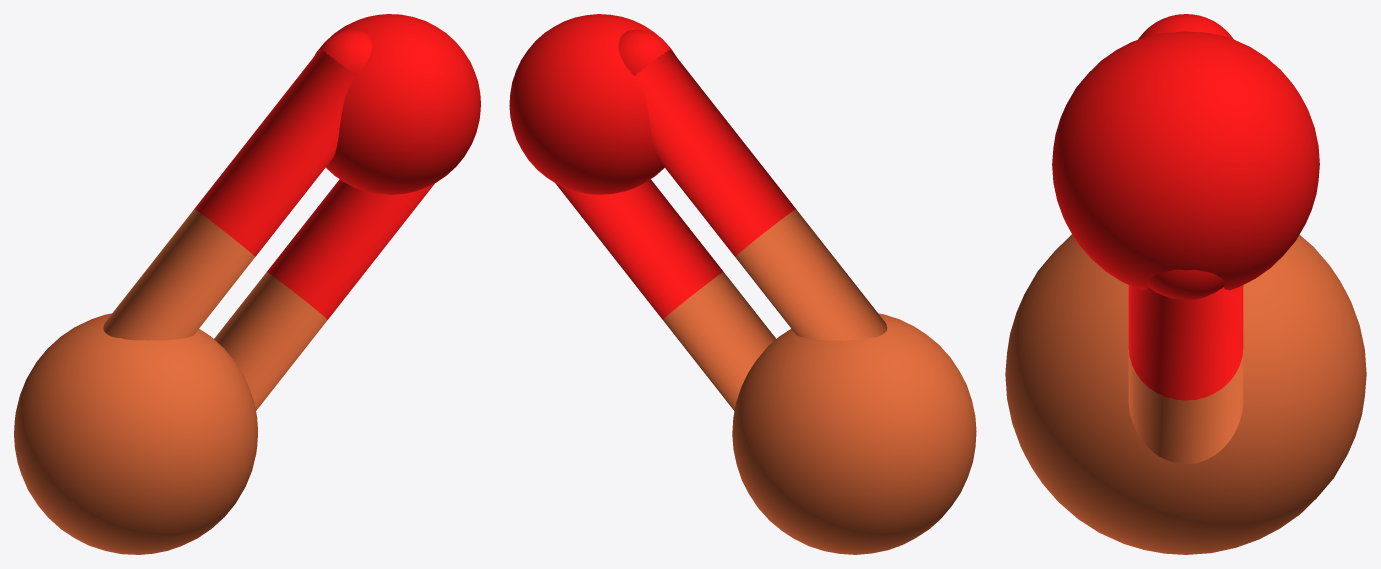
Rendered from oxideironII.obj.
3 renders of one model, left to right at view 1: azimuth 30°, elevation 25°; view 2: azimuth 150°, elevation 25°; view 3: azimuth 270°, elevation 25°, orthographic. The views are drawn at different scales.
Parts seen in each view (by area): view 1: Fe1_Atom, O2_Atom, Cylinder4, Cylinder3, Cylinder2, Cylinder1, Sphere4; view 2: Fe1_Atom, O2_Atom, Cylinder4, Cylinder3, Cylinder2, Cylinder1, Sphere4; view 3: Fe1_Atom, O2_Atom, Cylinder2, Cylinder1, Sphere2, Sphere4.
Boxes of the visible parts, <box> form: Fe1_Atom: <box>14,313,257,554</box>; O2_Atom: <box>314,14,480,194</box>; Cylinder4: <box>194,49,355,256</box>; Cylinder3: <box>103,209,254,340</box>; Cylinder2: <box>267,179,434,319</box>; Cylinder1: <box>214,272,327,410</box>; Sphere4: <box>320,29,371,75</box>; Fe1_Atom: <box>732,313,976,554</box>; O2_Atom: <box>509,14,675,194</box>; Cylinder4: <box>635,49,795,256</box>; Cylinder3: <box>735,209,887,340</box>; Cylinder2: <box>555,179,723,319</box>; Cylinder1: <box>663,272,775,410</box>; Sphere4: <box>618,29,670,75</box>; Fe1_Atom: <box>1005,234,1366,554</box>; O2_Atom: <box>1052,31,1319,290</box>; Cylinder2: <box>1128,285,1243,400</box>; Cylinder1: <box>1128,350,1243,463</box>; Sphere2: <box>1147,269,1224,300</box>; Sphere4: <box>1138,14,1233,39</box>.
Size of the model in its own units: 1.95 by 1.95 by 0.943.
